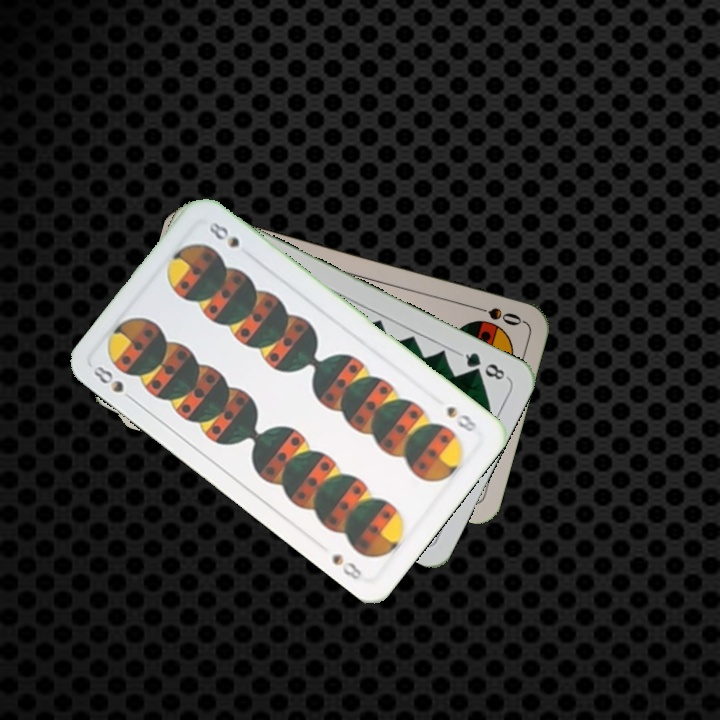G8: (455, 348, 510, 383)
S8: (89, 361, 139, 406), (442, 401, 480, 435)
SO: (467, 301, 524, 329)
